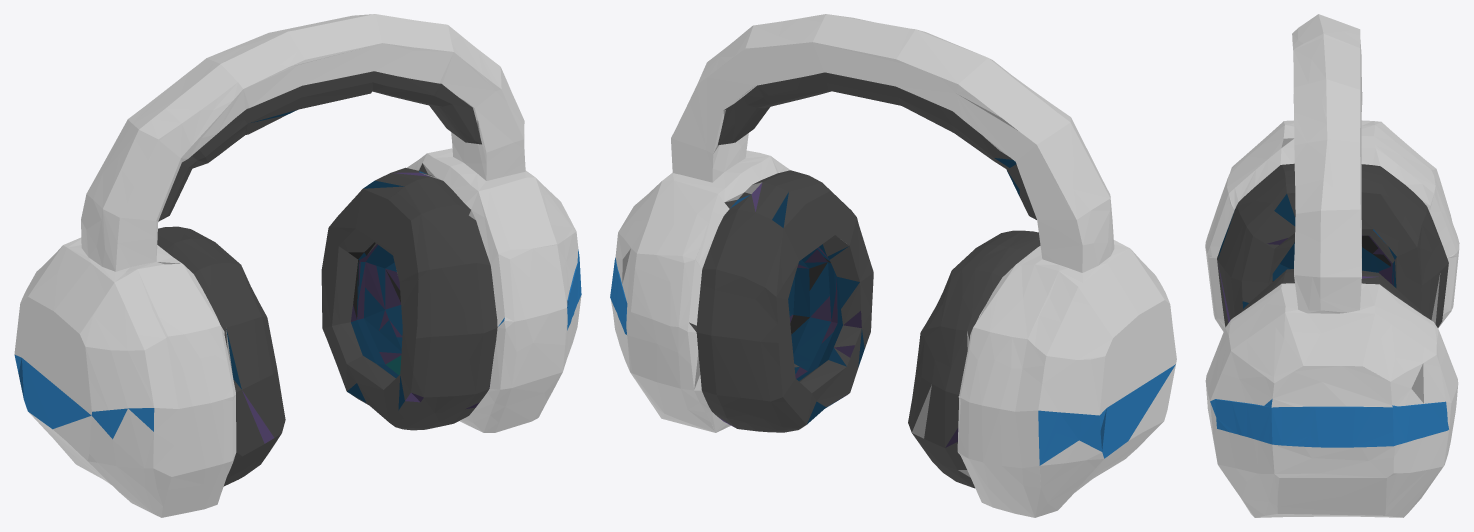
File: aki_headphones.glb
The picture shows the model from 3 angles, left to right: view 1: azimuth 30°, elevation 25°; view 2: azimuth 150°, elevation 25°; view 3: azimuth 270°, elevation 25°; orthographic projection. The views are drawn at different scales.
Parts seen in each view (by area): view 1: node_0; view 2: node_0; view 3: node_0.
Part boxes in pixels (x1,y1,x2,y2): node_0: (14, 14, 581, 517); node_0: (610, 14, 1176, 517); node_0: (1205, 14, 1459, 517).
Size of the model in its own units: 0.9989 by 0.8269 by 0.4671.
